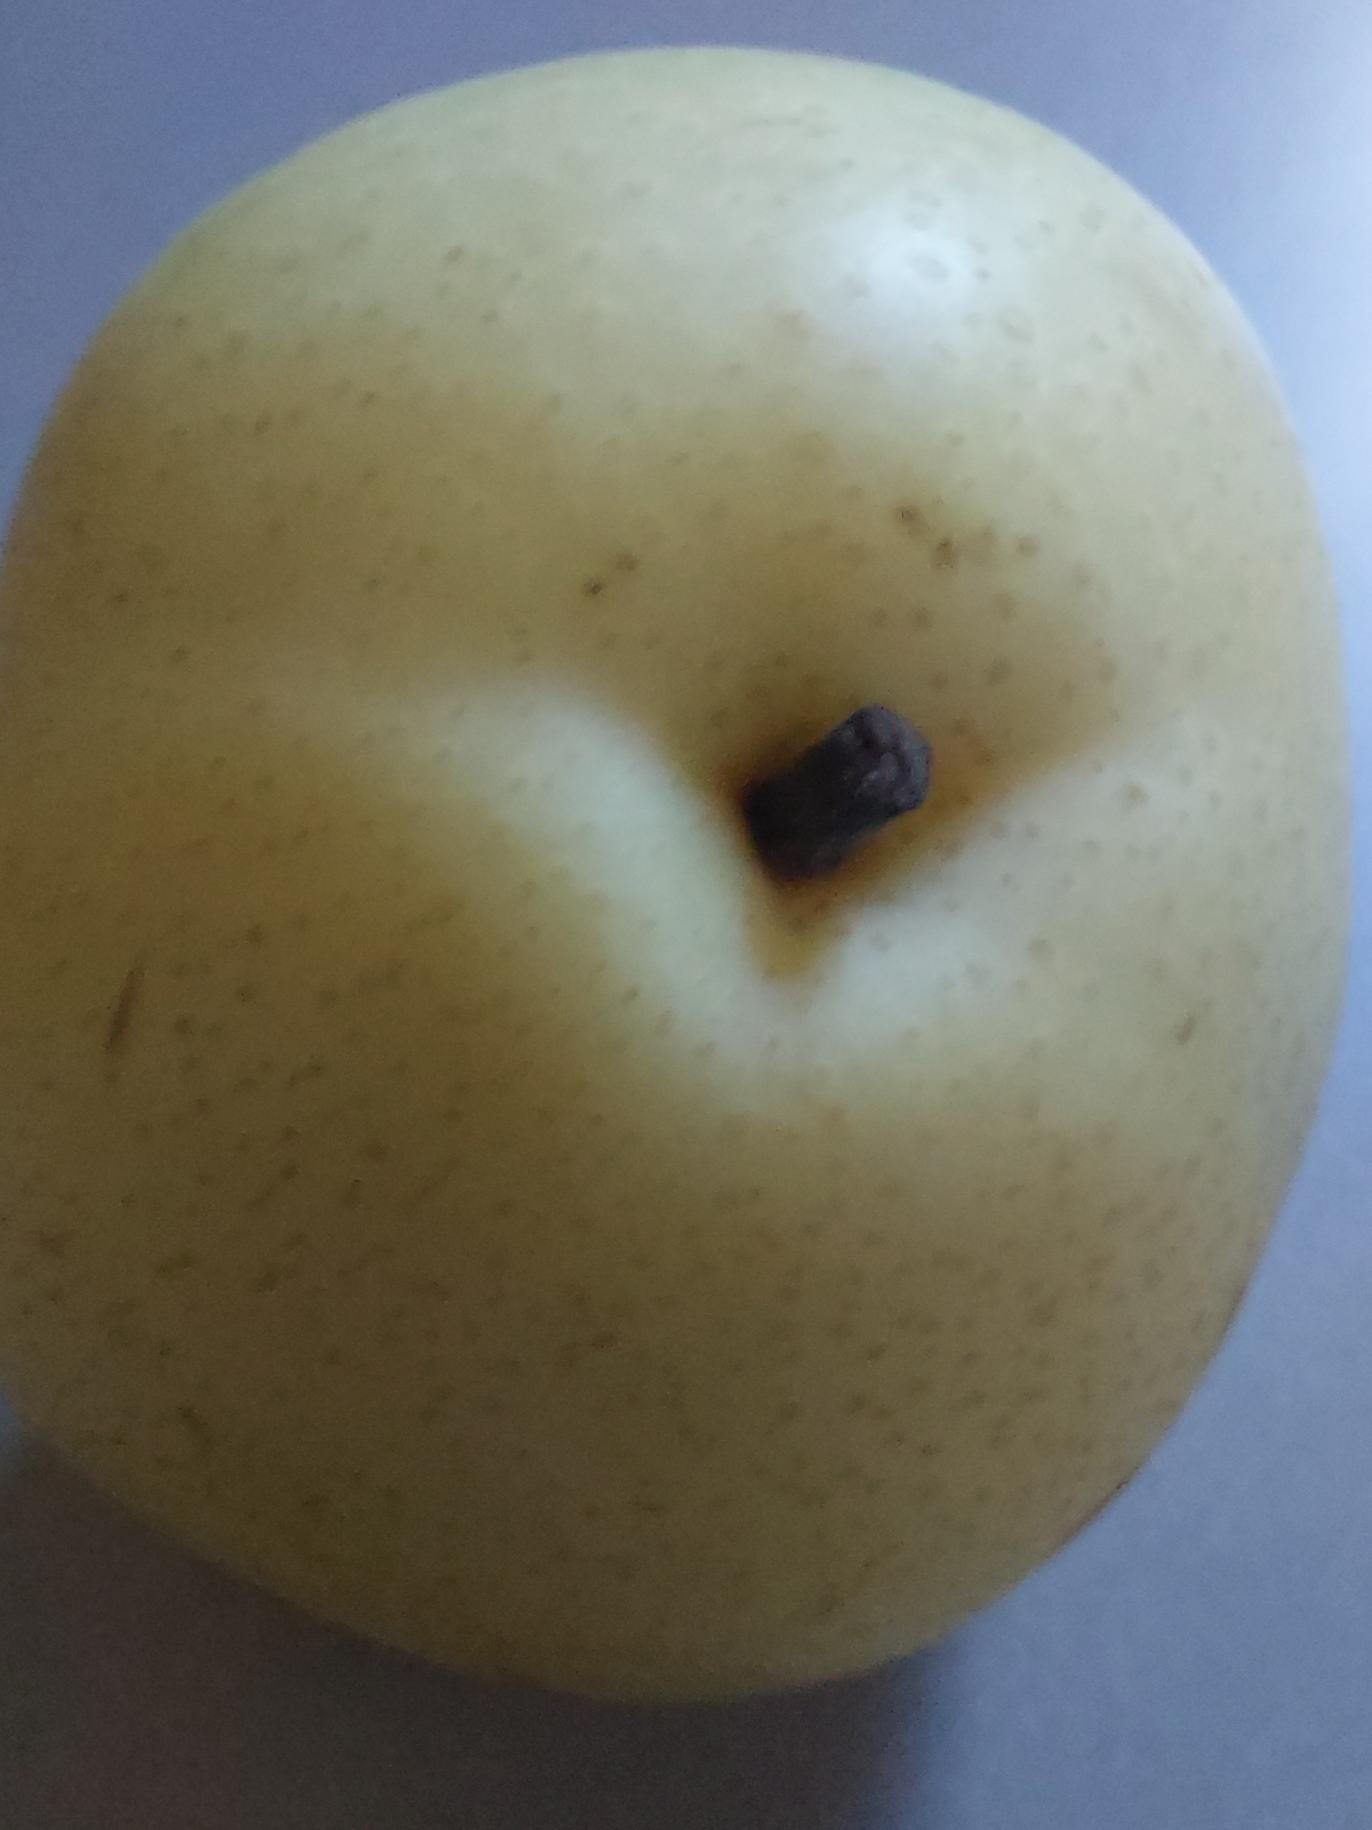Good Pear: (0, 9, 1372, 1777)
